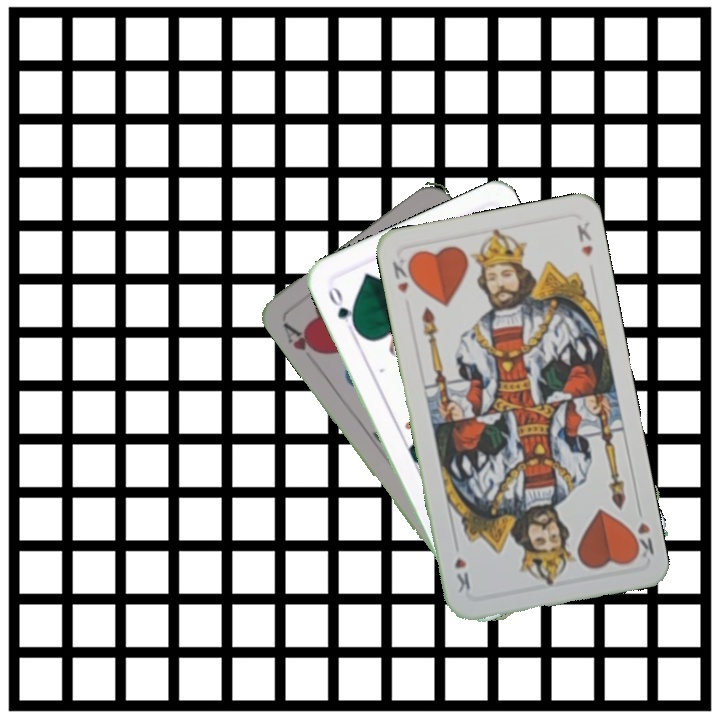GO: (324, 280, 360, 334)
HA: (278, 318, 326, 359)
HK: (626, 502, 657, 561), (388, 254, 418, 296)
